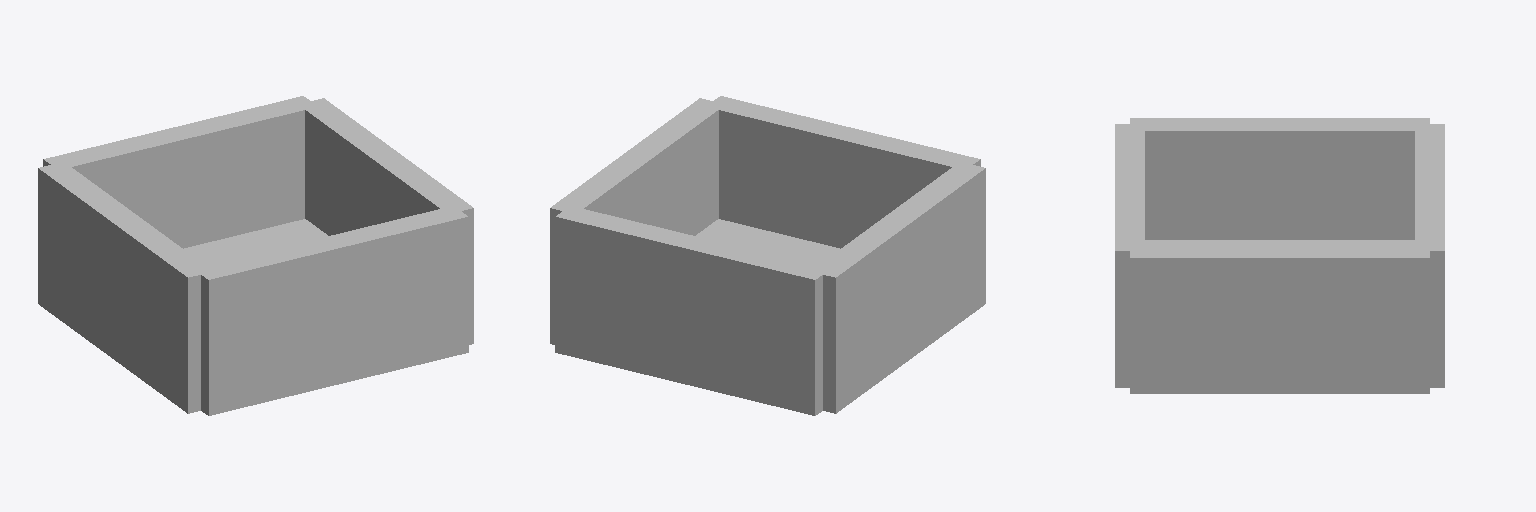
File: map.obj
The picture shows the model from 3 angles: view 1: azimuth 30°, elevation 25°; view 2: azimuth 150°, elevation 25°; view 3: azimuth 270°, elevation 25°; orthographic projection.
Visible parts, largest first — view 1: Cube.003_Cube.006, Cube.001_Cube.004, Cube.004_Cube.007, Cube.002_Cube.005, Cube_Cube.003; view 2: Cube.004_Cube.007, Cube.001_Cube.004, Cube.003_Cube.006, Cube.002_Cube.005, Cube_Cube.003; view 3: Cube.002_Cube.005, Cube.001_Cube.004, Cube.003_Cube.006, Cube.004_Cube.007, Cube_Cube.003.
Boxes of the visible parts, x1,y1,x2,y2 form: Cube.003_Cube.006: [198, 209, 468, 415]; Cube.001_Cube.004: [38, 163, 213, 413]; Cube.004_Cube.007: [43, 96, 316, 248]; Cube.002_Cube.005: [299, 98, 473, 344]; Cube_Cube.003: [184, 219, 327, 265]; Cube.004_Cube.007: [555, 209, 824, 415]; Cube.001_Cube.004: [810, 162, 985, 413]; Cube.003_Cube.006: [707, 96, 980, 248]; Cube.002_Cube.005: [550, 98, 725, 344]; Cube_Cube.003: [696, 219, 839, 265]; Cube.002_Cube.005: [1130, 245, 1429, 393]; Cube.001_Cube.004: [1130, 118, 1429, 239]; Cube.003_Cube.006: [1115, 124, 1144, 387]; Cube.004_Cube.007: [1415, 124, 1444, 387]; Cube_Cube.003: [1145, 240, 1414, 244].
Bounding box in the file's own units: 4400 × 2000 × 4400.